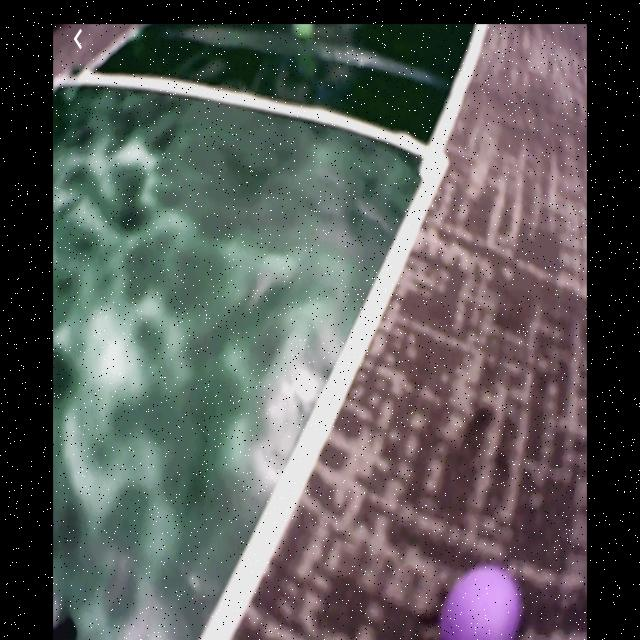ball: (439, 565, 522, 640)
